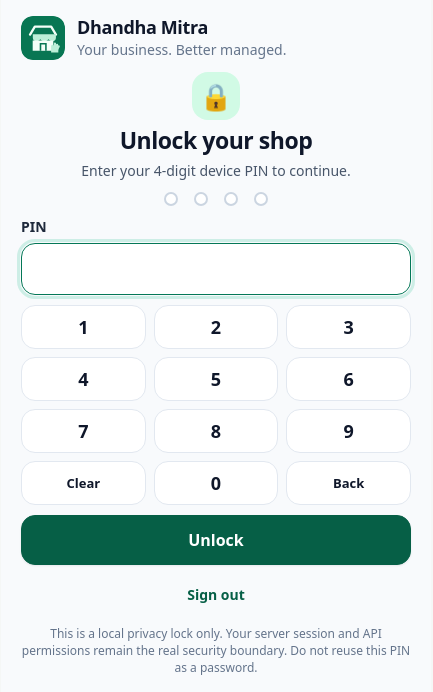
it: Dhandha Mitra authentication screens › loads the real local PIN gate and supports keypad digits, clear and backspace
Expected: the heading "Unlock your shop" is shown, [120,126,312,155]
Click the button named "Digit 1".
click(83, 327)  # box [21,305,146,349]
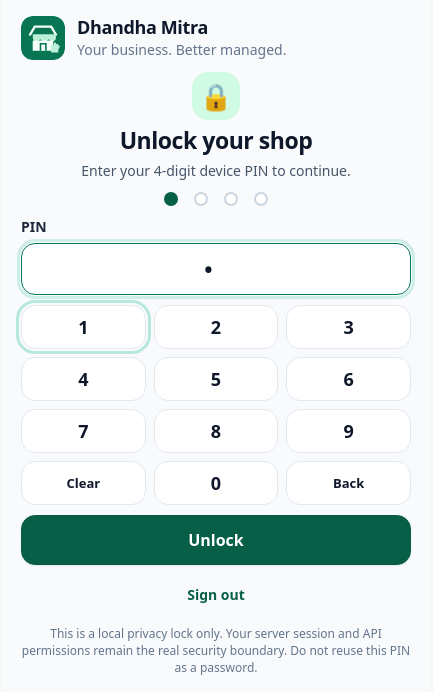
Click the button named "Digit 2".
click(216, 327)  # box [154,305,278,349]
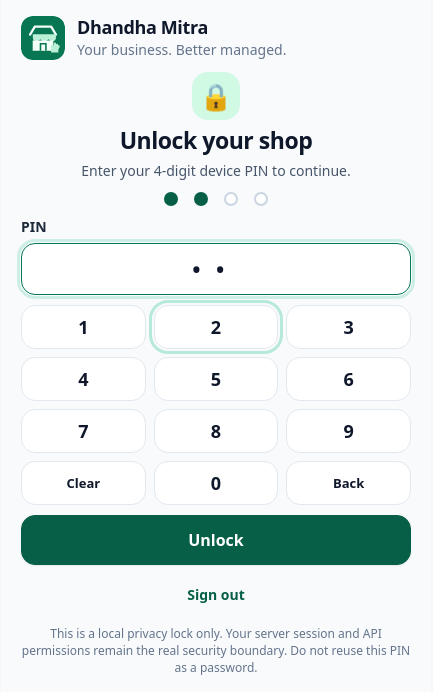
Click the button named "Digit 3".
click(349, 327)  # box [286,305,411,349]
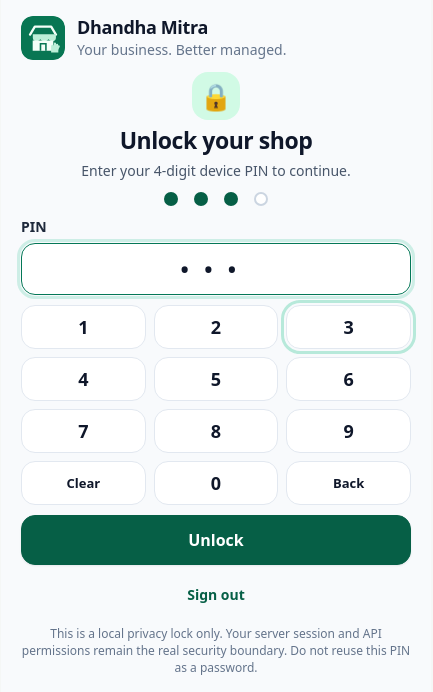
Result: the password field labelled "PIN" holds "123" at [21,243,411,295]
Click the button with aria-label "Backspace".
click(349, 483)  # box [286,461,411,505]
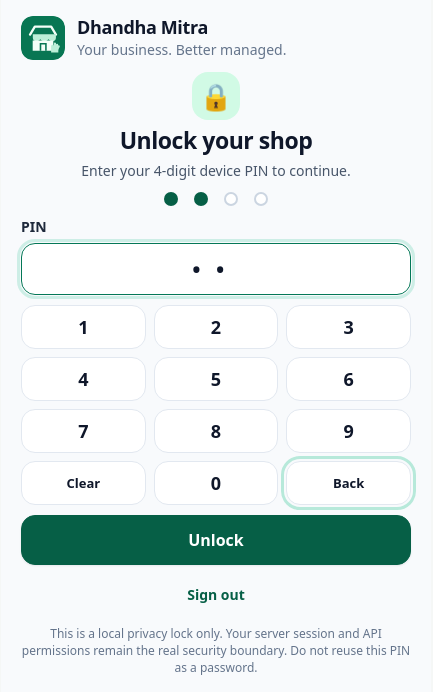
Result: the password field labelled "PIN" holds "12" at [21,243,411,295]
Click the button with aria-label "Clear PIN field".
click(83, 483)  # box [21,461,146,505]
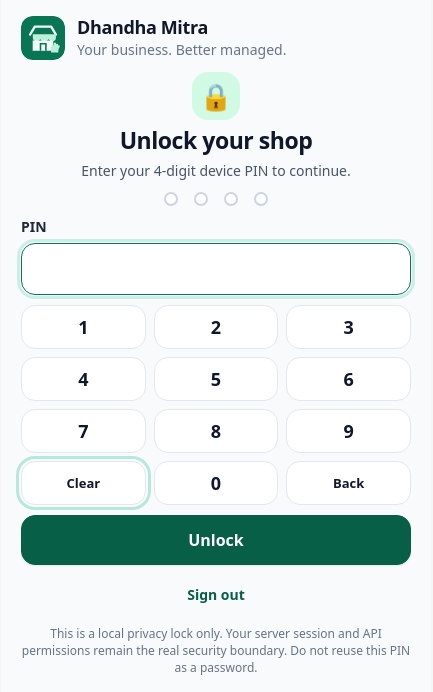
Result: the password field labelled "PIN" is empty at [21,243,411,295]
